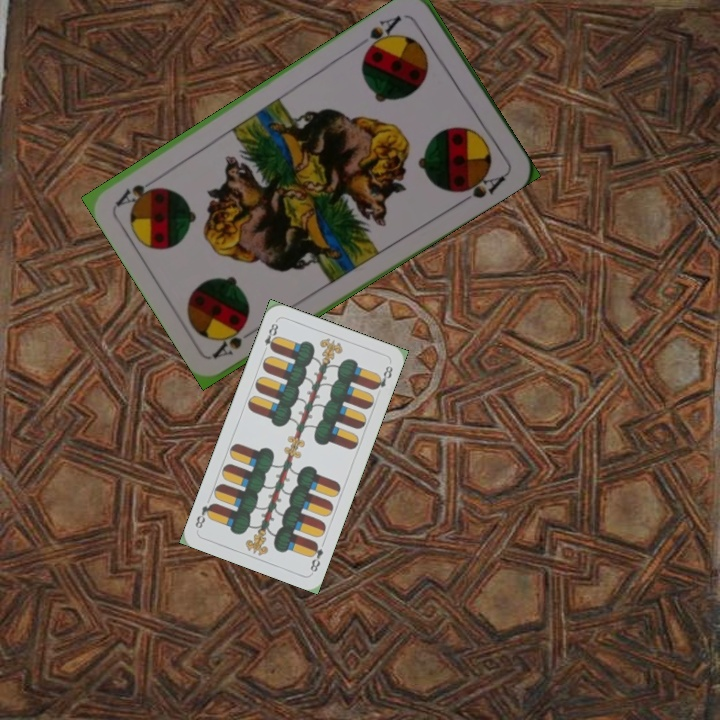E8: (259, 317, 281, 356), (306, 538, 326, 575)
SA: (210, 322, 263, 361), (362, 11, 405, 56)
